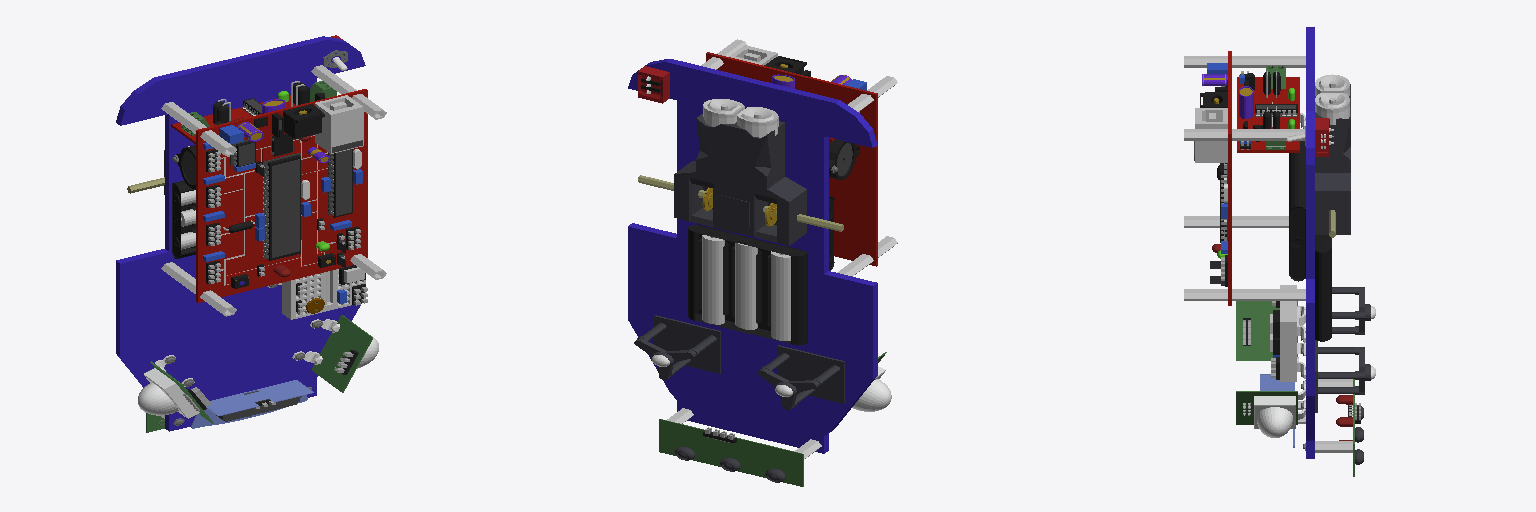
Rendered from robotScale_SansRoue.obj.
3 renders of one model, left to right at view 1: azimuth 30°, elevation 25°; view 2: azimuth 150°, elevation 25°; view 3: azimuth 270°, elevation 25°, orthographic.
Parts seen in each view (by area): view 1: Plane.003; view 2: Plane.003; view 3: Plane.003.
Boxes of the visible parts, <box> form: Plane.003: <box>116,35,386,432</box>; Plane.003: <box>628,39,897,486</box>; Plane.003: <box>1184,27,1375,476</box>.
Bounding box in the file's own units: 5 × 7.25 × 3.4.